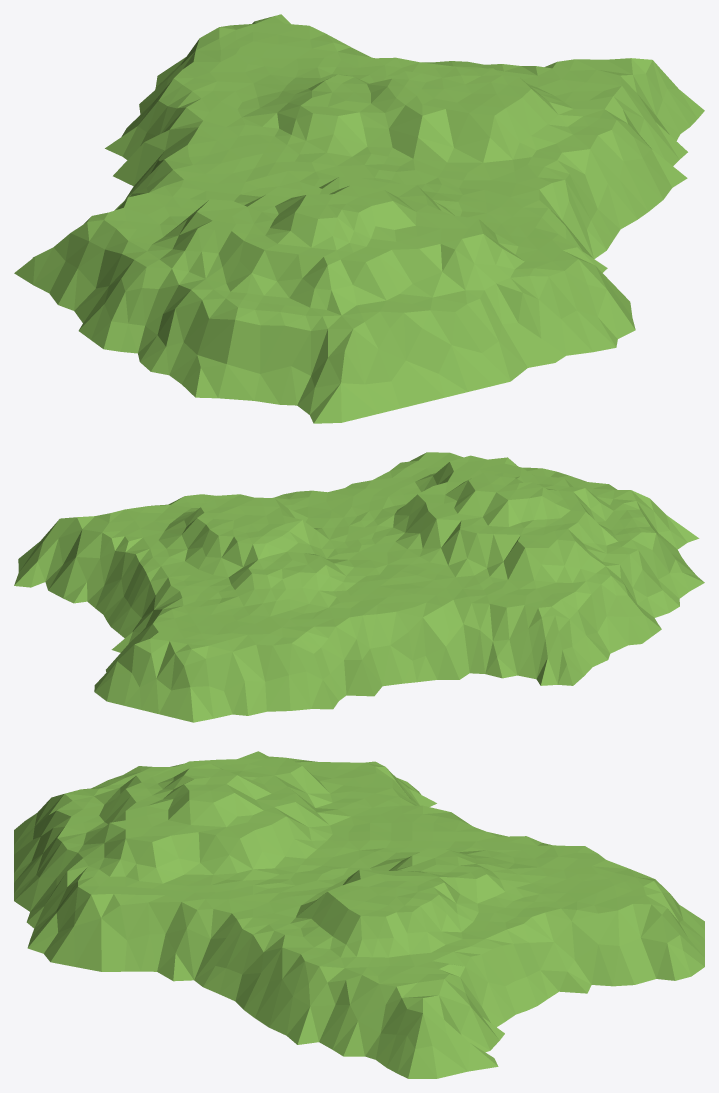
Rendered from MT_Island_L_b_03.fbx.
3 views of the same model, one above another, from view 1: azimuth 30°, elevation 25°; view 2: azimuth 150°, elevation 25°; view 3: azimuth 270°, elevation 25° (orthographic). The views are drawn at different scales.
Parts seen in each view (by area): view 1: MT_Island_L_b_03; view 2: MT_Island_L_b_03; view 3: MT_Island_L_b_03.
Boxes of the visible parts, x1=… form: MT_Island_L_b_03: x1=14, y1=14, x2=704, y2=423; MT_Island_L_b_03: x1=14, y1=452, x2=704, y2=722; MT_Island_L_b_03: x1=14, y1=751, x2=704, y2=1078.
Bounding box in the file's own units: 10168 × 1555 × 10168.
